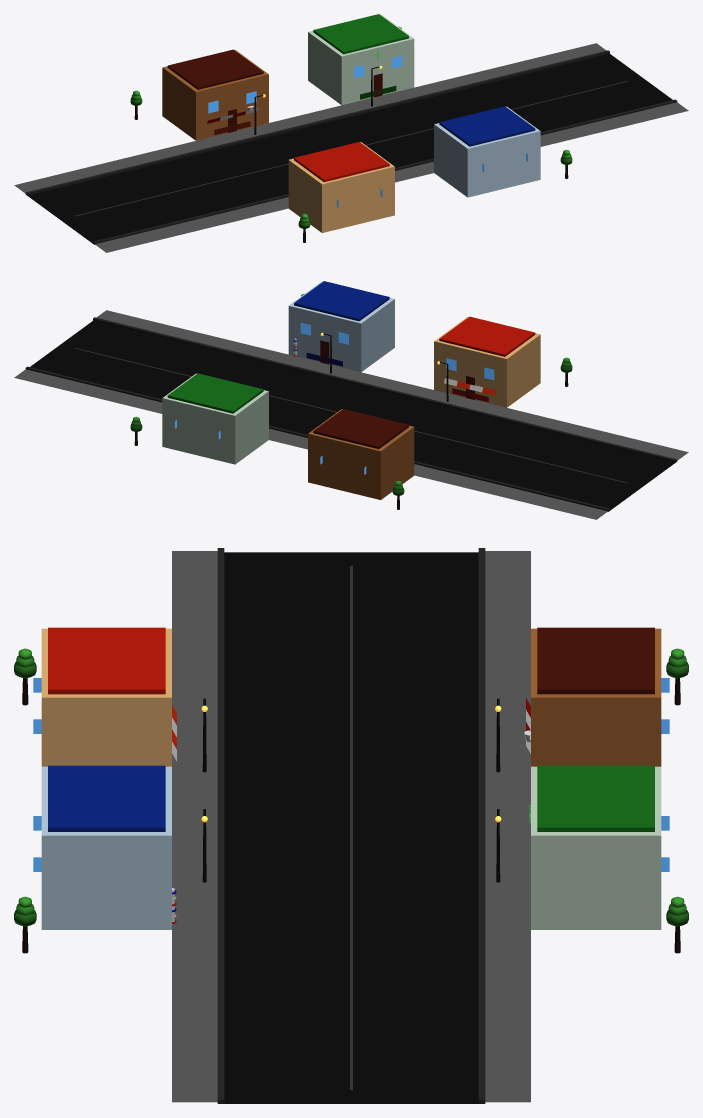
Rendered from scene-backup.glb.
3 renders of one model, top to bottom at view 1: azimuth 30°, elevation 25°; view 2: azimuth 150°, elevation 25°; view 3: azimuth 270°, elevation 25°, orthographic. The views are drawn at different scales.
Bounding box in the file's own units: 40 × 3.4 × 20.69.
